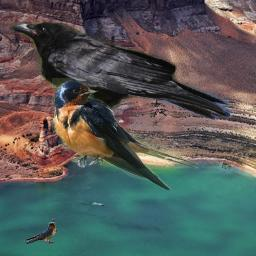Crow: (8, 20, 233, 135)
Swallow: (52, 78, 199, 190), (19, 222, 57, 244)
